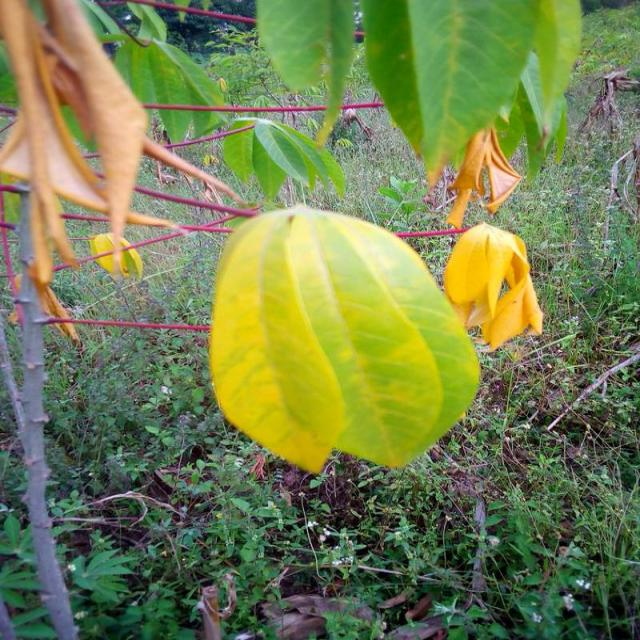cassava leaf: (208, 202, 482, 474)
